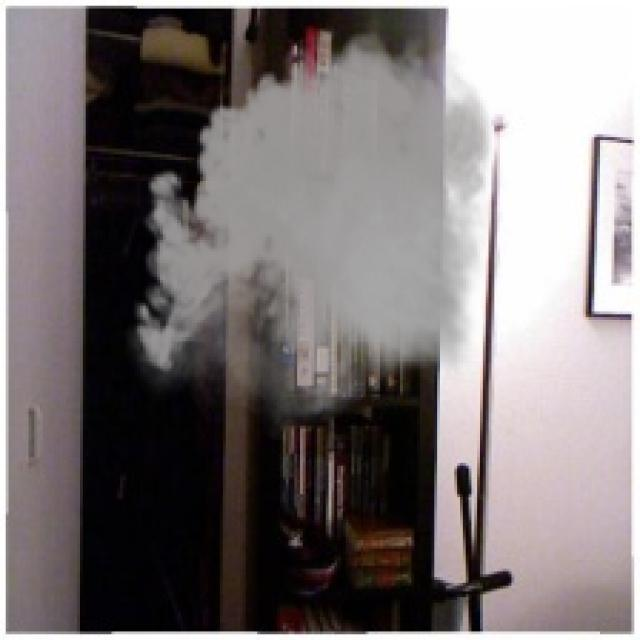Smoke: (123, 17, 506, 440)
